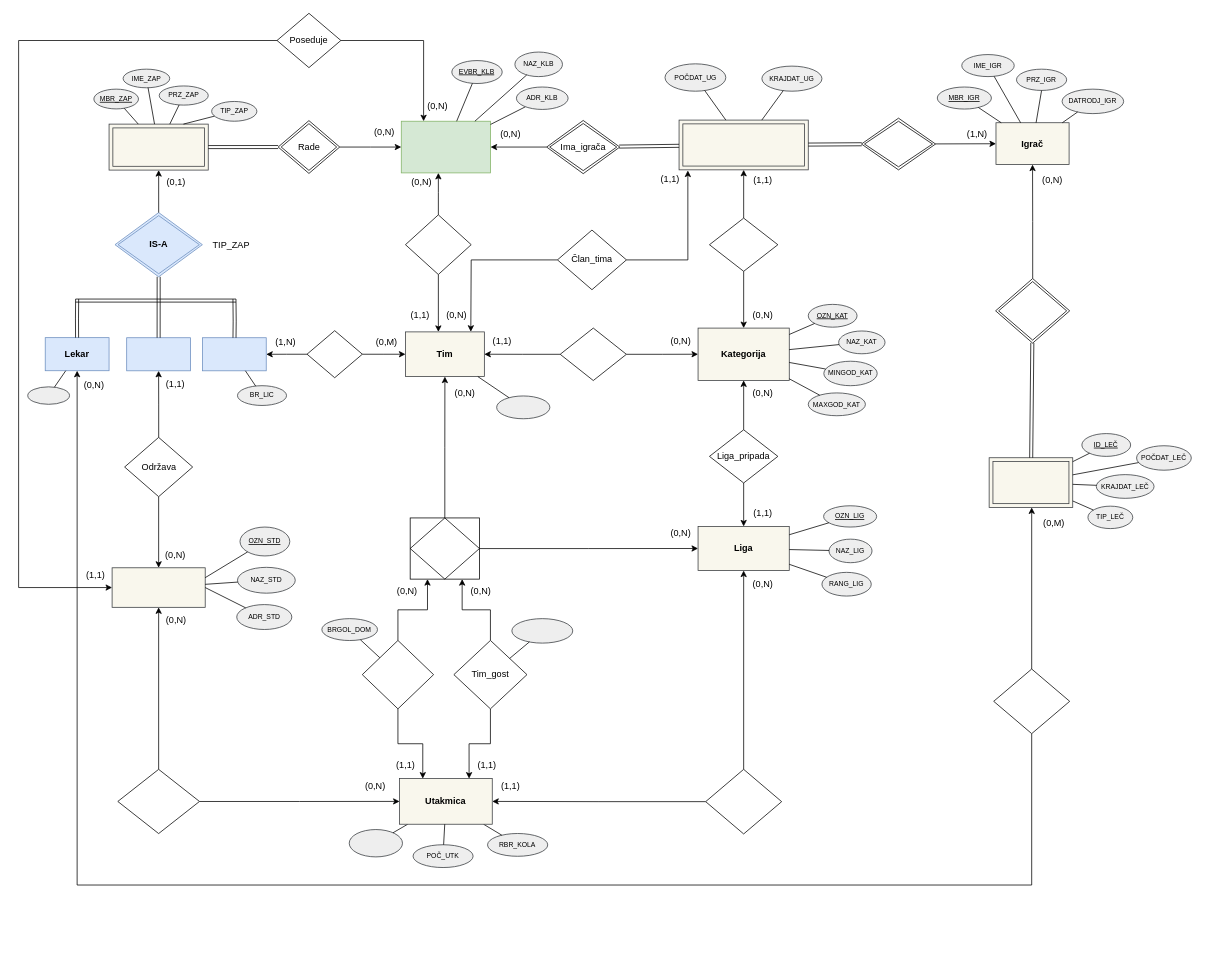
This 1205x969 diagram has some shape labels left out. The shapes that lost their labels are listed below. From the top down, each one's centre as x and y in pixels, then its label:
the point at 158,146: Zaposleni
the point at 446,146: Fudbalski_klub
the point at 743,144: Ugovor_igrača
the point at 898,143: Igra_u
the point at 438,244: Sadrži
the point at 743,244: Igrač_pripada
the point at 1032,310: Leči_se
the point at 158,354: Ekonom
the point at 234,354: Trener
the point at 334,354: Trenira
the point at 592,354: Pripada
the point at 48,395: SPEC_LEK
the point at 523,407: EVBR_TIM
the point at 1030,482: Lečenje
the point at 444,548: Učestvuje
the point at 158,587: Stadion
the point at 542,630: BRGOL_GOST
the point at 398,674: Tim_domaćin
the point at 1031,701: Leči
the point at 158,801: Održava_se_na
the point at 743,801: Organizuje
the point at 375,843: OZN_UTK
